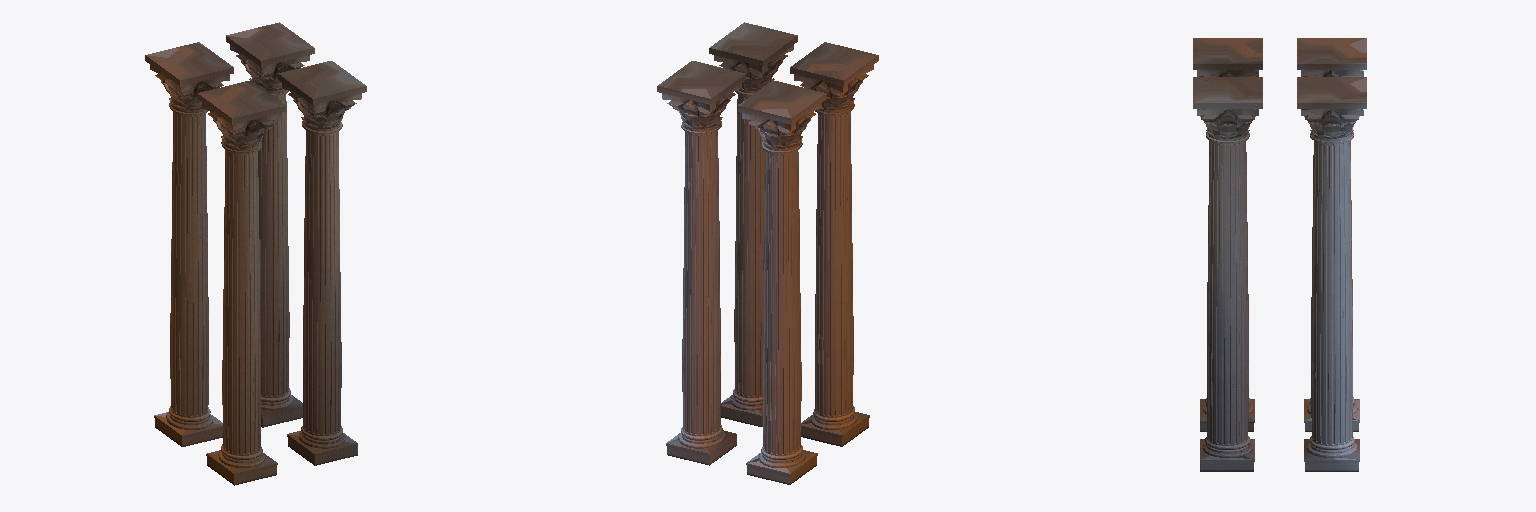
The picture shows the model from 3 angles: view 1: azimuth 30°, elevation 25°; view 2: azimuth 150°, elevation 25°; view 3: azimuth 270°, elevation 25°; orthographic projection.
Visible parts, largest first — view 1: Pillar_Group_R; view 2: Pillar_Group_R; view 3: Pillar_Group_R.
Boxes of the visible parts, x1=… form: Pillar_Group_R: x1=145, y1=22, x2=366, y2=485; Pillar_Group_R: x1=657, y1=22, x2=878, y2=484; Pillar_Group_R: x1=1193, y1=38, x2=1366, y2=471.
Size of the model in its own units: 4.65 by 12.28 by 5.22.
1 materials, 1 textured.